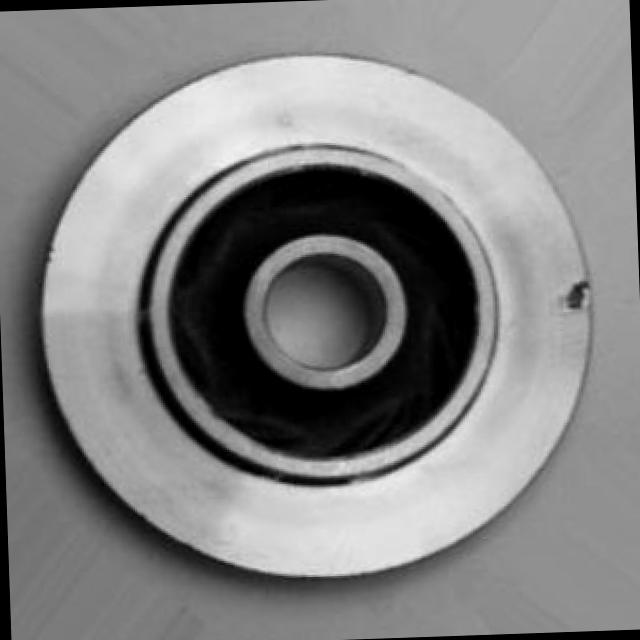Defect: (566, 281, 590, 312)
